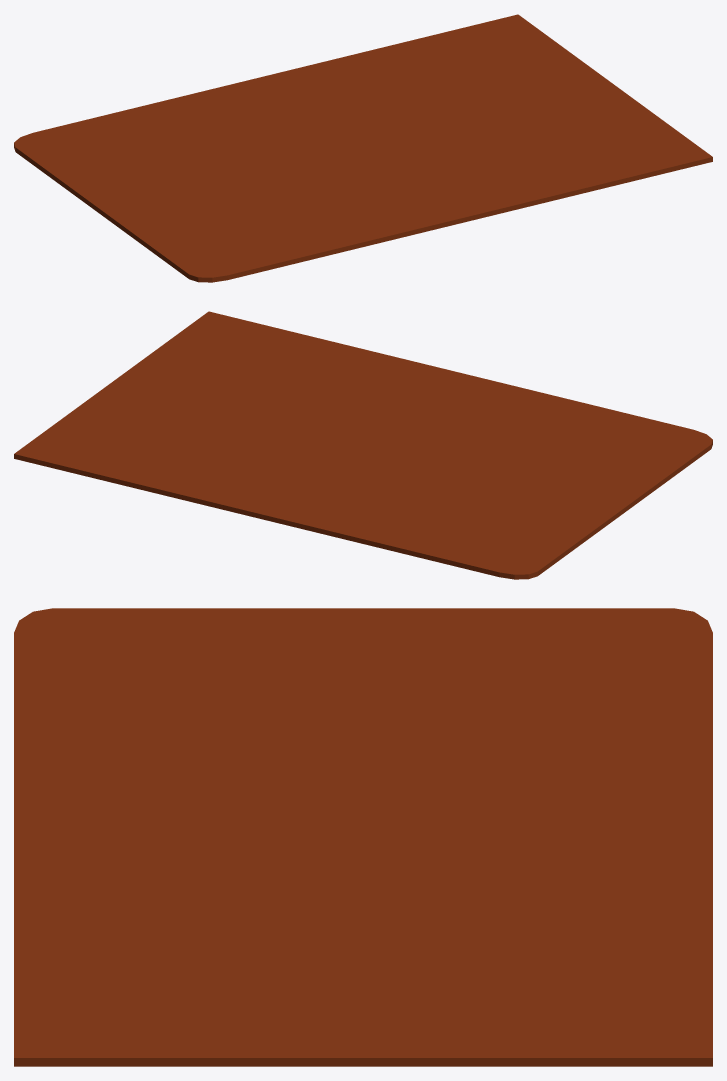
The model's file is Meat_cutting_board.fbx.
The picture shows the model from 3 angles, top to bottom: view 1: azimuth 30°, elevation 25°; view 2: azimuth 150°, elevation 25°; view 3: azimuth 270°, elevation 25°; orthographic projection. The views are drawn at different scales.
Parts seen in each view (by area): view 1: Meat_cutting_board; view 2: Meat_cutting_board; view 3: Meat_cutting_board.
Boxes of the visible parts, x1=… form: Meat_cutting_board: x1=14, y1=14, x2=712, y2=282; Meat_cutting_board: x1=14, y1=311, x2=712, y2=579; Meat_cutting_board: x1=14, y1=608, x2=712, y2=1066.
Bounding box in the file's own units: 25.51 × 0.2301 × 16.76.
